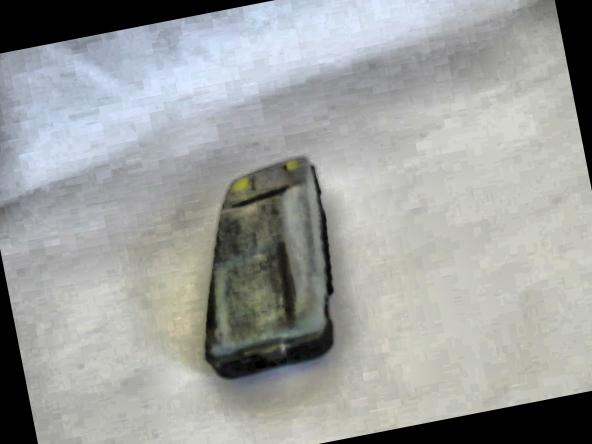normal_car: (164, 150, 358, 388)
